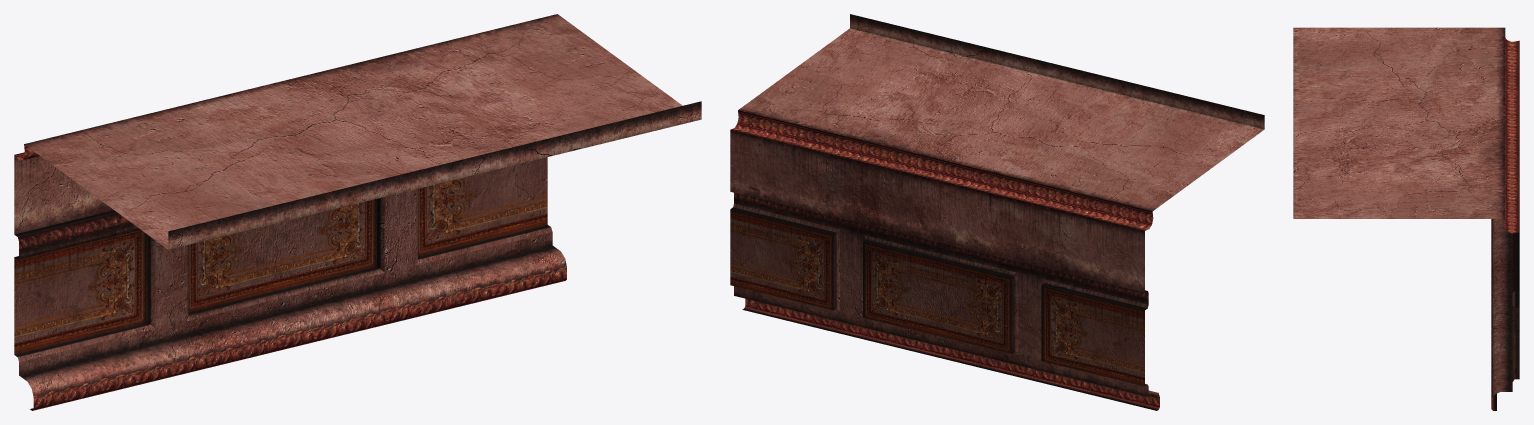
File: concave02.dae
The picture shows the model from 3 angles, left to right: view 1: azimuth 30°, elevation 25°; view 2: azimuth 150°, elevation 25°; view 3: azimuth 270°, elevation 25°; orthographic projection. The views are drawn at different scales.
Visible parts, largest first — view 1: concave; view 2: concave; view 3: concave.
Part boxes in pixels (x1,y1,x2,y2): concave: (14, 14, 701, 410); concave: (730, 14, 1264, 410); concave: (1293, 27, 1519, 410).
Size of the model in its own units: 4 by 2 by 2.
Materials: 1 (1 with a texture image).
